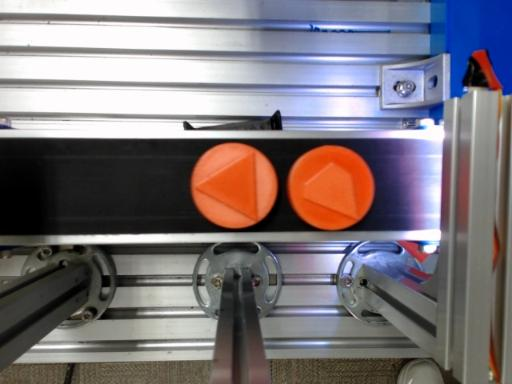Orange_Waper: (190, 143, 278, 228), (287, 146, 374, 230)
